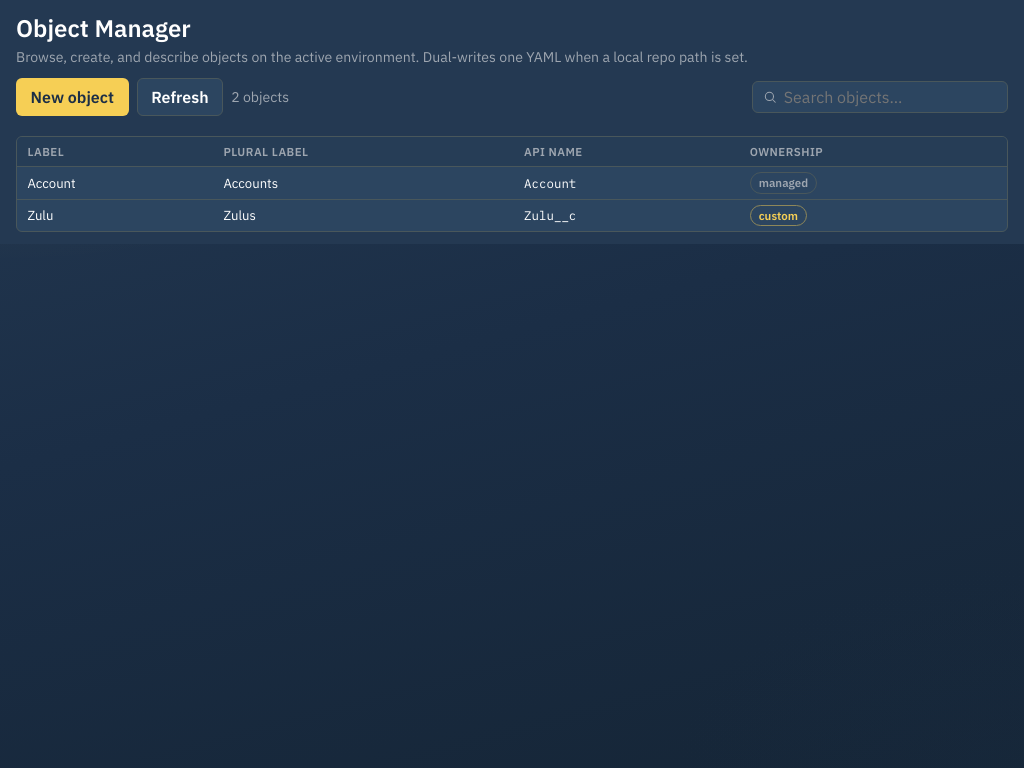
Test: ObjectManagerPanel › lists objects in a searchable table and opens detail with fields
Check: the text "Accounts" is shown, box [213, 167, 514, 199]
Type "zul" into the field with test id "om-search" at coordinates (890, 97), box [784, 83, 997, 111]
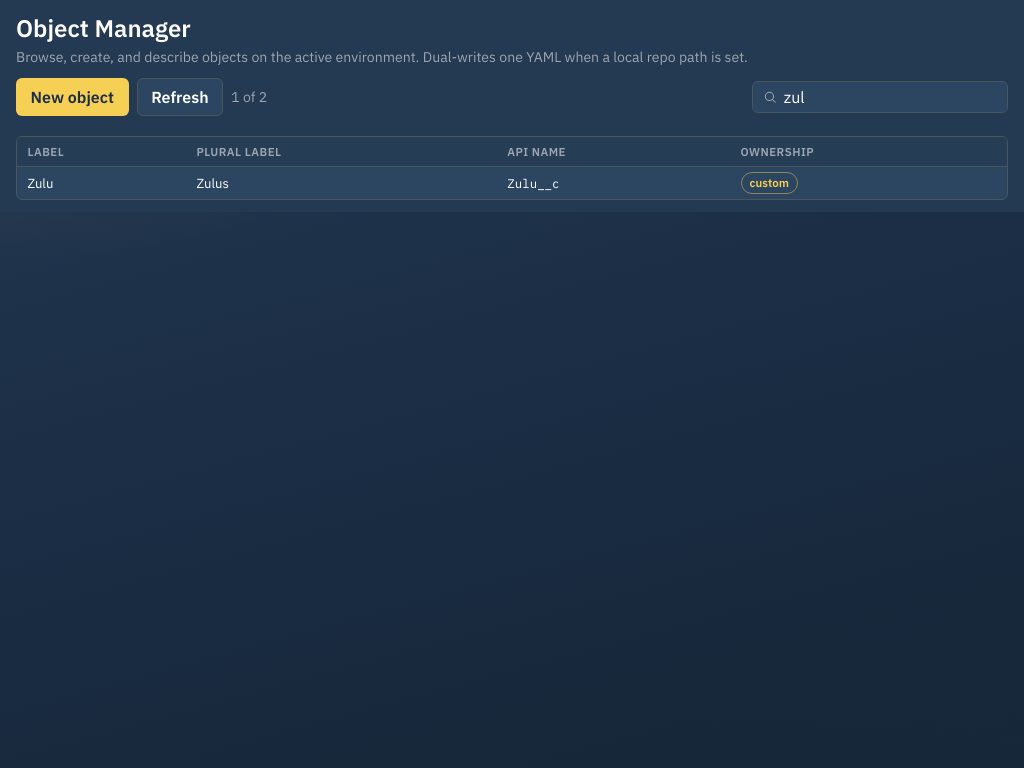
Check: the button with test id "om-row-Zulu__c" is shown, box [17, 167, 1007, 199]
Check: the button with test id "om-row-Account" is gone
Clear the field with test id "om-search" at coordinates (890, 97), box [784, 83, 997, 111]
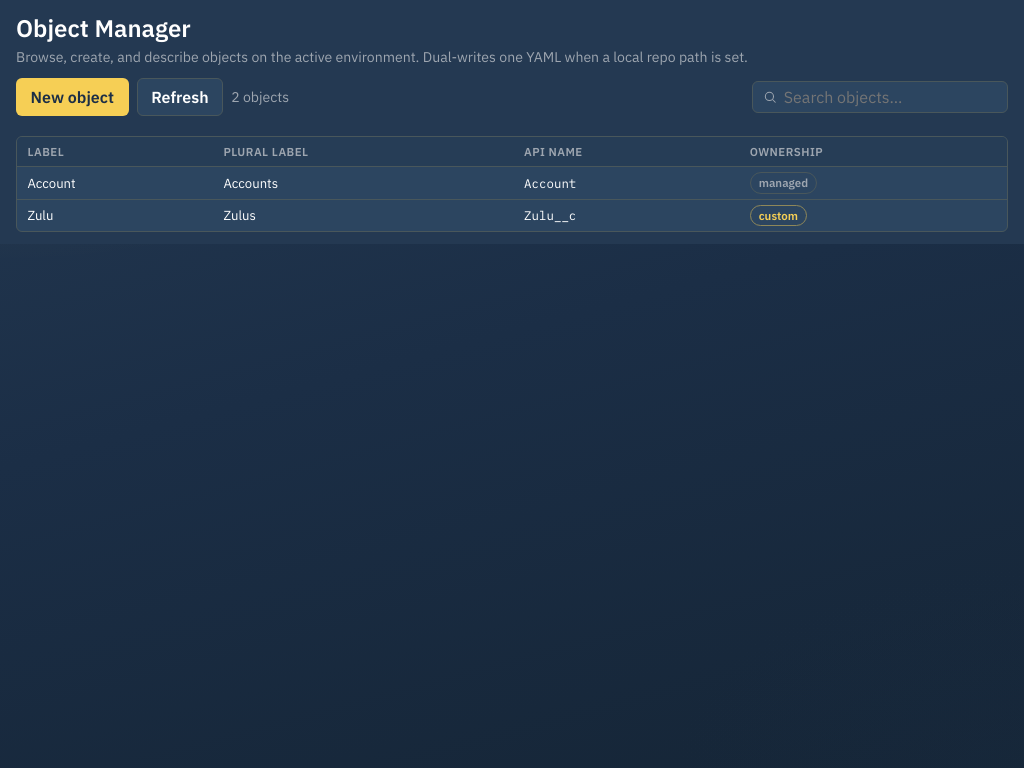
Click the button with aria-label "Open Account" at coordinates (512, 183), box [17, 167, 1007, 199]
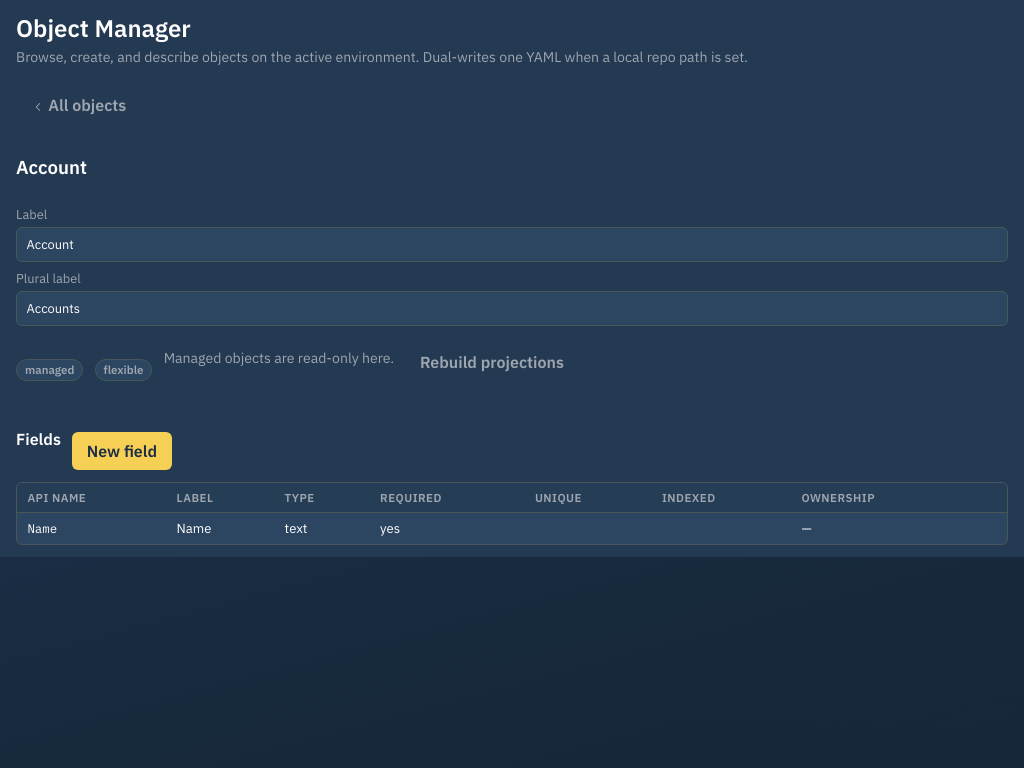
Check: the table with test id "om-field-table" is shown, box [17, 483, 1007, 544]
Check: the text "text" is shown, box [274, 512, 370, 544]
Click the button with test id "om-back" at coordinates (78, 105), box [16, 86, 141, 124]
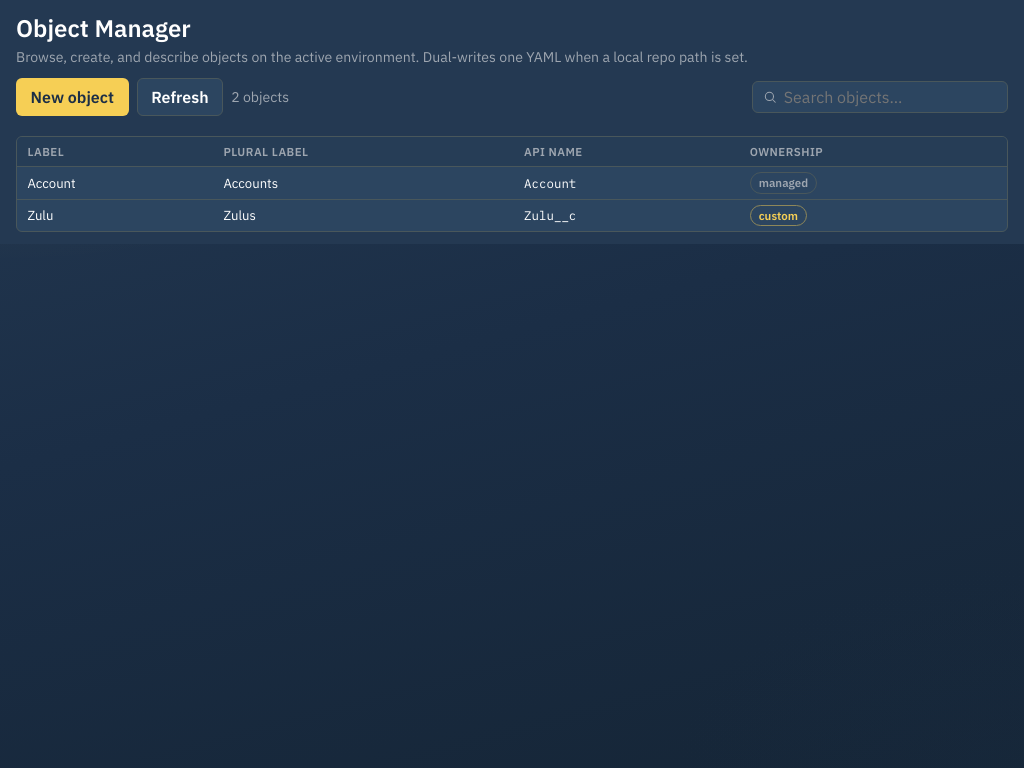
Check: the element with test id "om-object-list" is shown, box [16, 136, 1008, 232]
